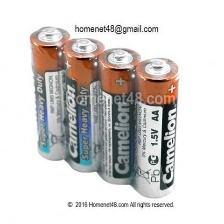battery: (131, 54, 181, 203), (95, 41, 141, 187), (27, 21, 73, 163), (61, 33, 107, 174)
